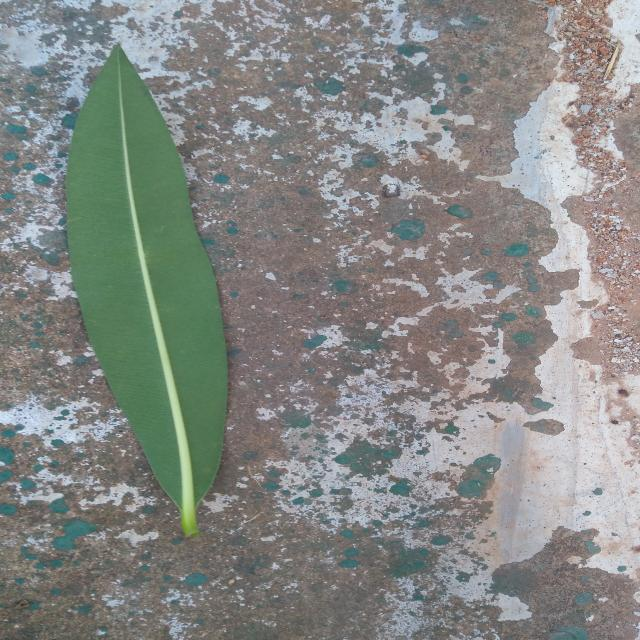ganigale: (67, 46, 227, 536)
